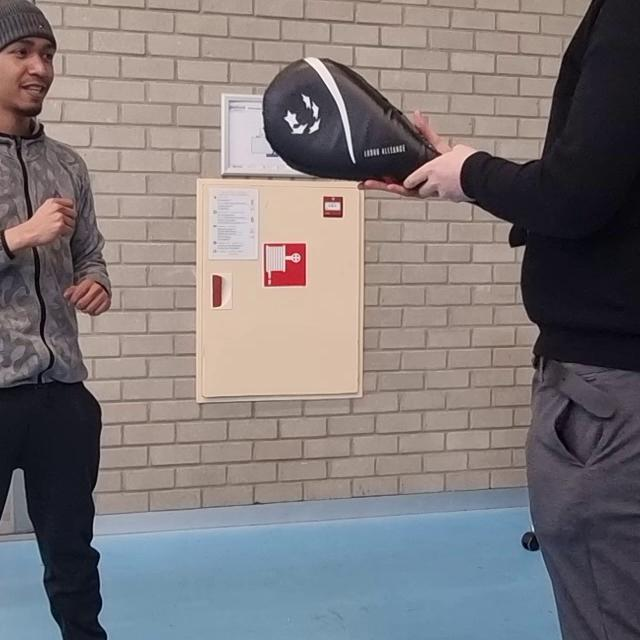paddle: (262, 58, 443, 189)
